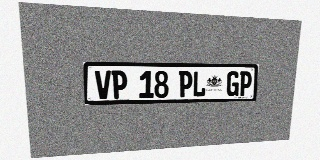1: (139, 71, 154, 98)
8: (154, 71, 169, 98)
G: (226, 71, 240, 96)
L: (192, 71, 206, 97)
P: (111, 70, 127, 99), (178, 71, 193, 97), (239, 71, 252, 96)
V: (95, 70, 111, 99)
